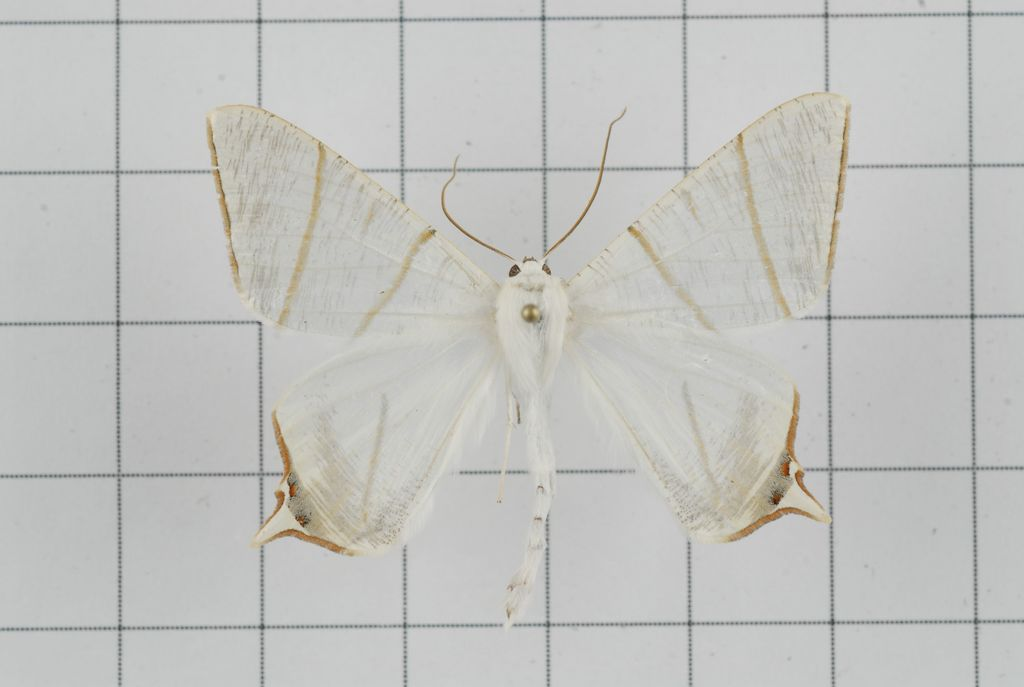Butterfly: (166, 64, 862, 581)
